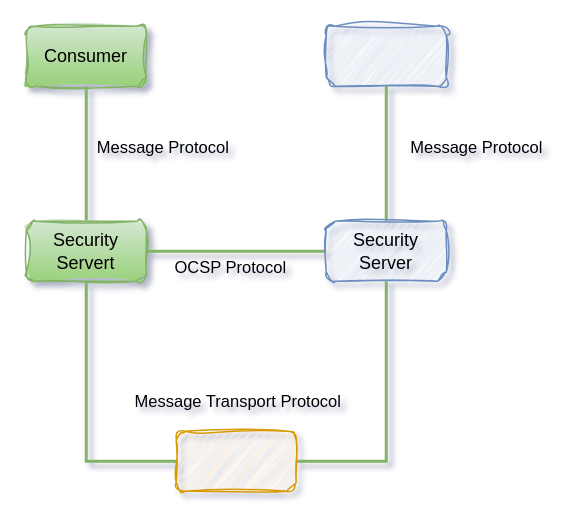
This 576x527 diagram has some shape labels left out. Here are the shapes that lost their labels. From the top down, the centre of each, then its label:
At point (385, 55): "Producer".
At point (235, 460): "Central Server".
